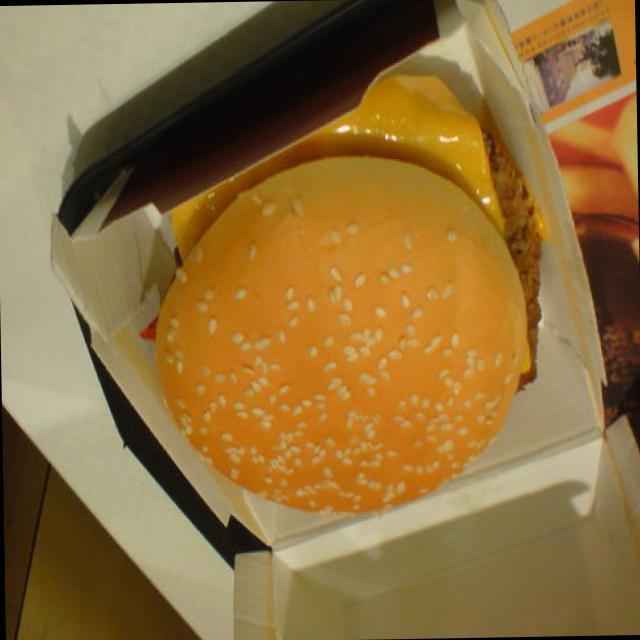Hamburger: (165, 112, 560, 520)
